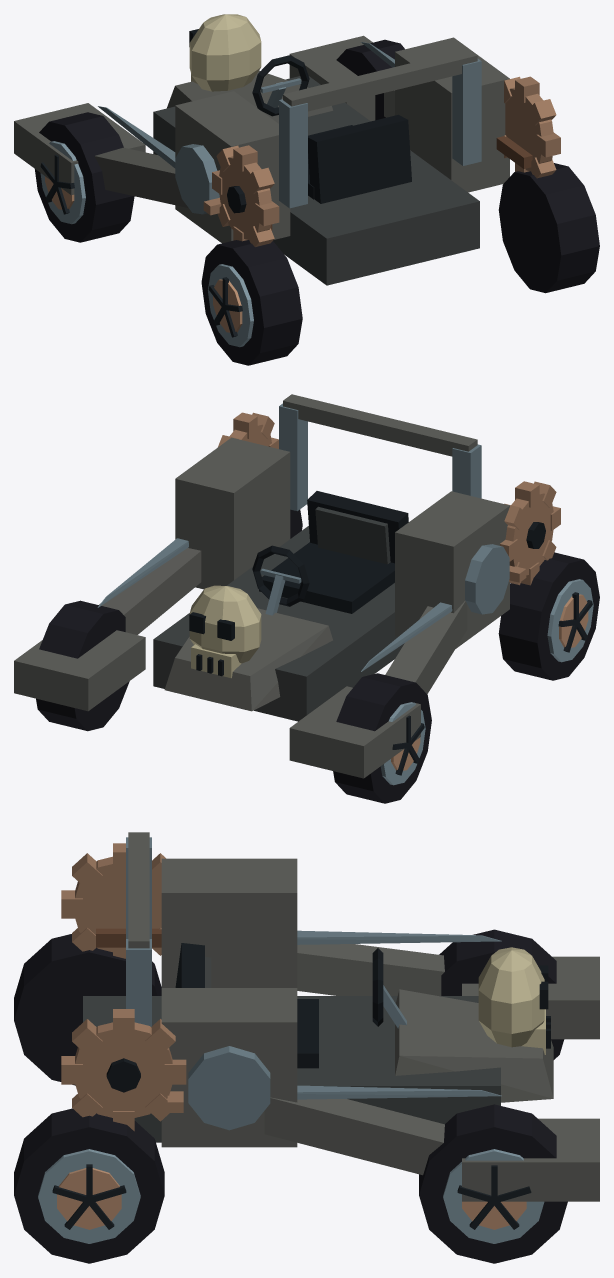
Rendered from kart.glb.
3 renders of one model, top to bottom at view 1: azimuth 30°, elevation 25°; view 2: azimuth 150°, elevation 25°; view 3: azimuth 270°, elevation 25°, orthographic. The views are drawn at different scales.
Parts seen in each view (by area): view 1: identity-mech-mech-articulated-limbs-and-open-harness, wheel-rear-left, wheel-rear-right, identity-mech-motif-gears, identity-mech-driver-cockpit, wheel-front-left, identity-mech-motif-skull, identity-mech-motif-swords, wheel-front-right; view 2: identity-mech-mech-articulated-limbs-and-open-harness, identity-mech-driver-cockpit, wheel-rear-left, wheel-front-left, identity-mech-motif-gears, identity-mech-motif-skull, wheel-front-right, identity-mech-motif-swords; view 3: identity-mech-mech-articulated-limbs-and-open-harness, wheel-rear-right, identity-mech-motif-gears, wheel-front-right, wheel-rear-left, identity-mech-motif-skull, identity-mech-motif-swords, identity-mech-driver-cockpit, wheel-front-left.
Boxes of the visible parts, x1=… form: identity-mech-mech-articulated-limbs-and-open-harness: x1=14, y1=35, x2=509, y2=285; wheel-rear-left: x1=201, y1=240, x2=302, y2=365; wheel-rear-right: x1=498, y1=163, x2=599, y2=293; identity-mech-motif-gears: x1=212, y1=76, x2=560, y2=246; identity-mech-driver-cockpit: x1=252, y1=55, x2=411, y2=203; wheel-front-left: x1=35, y1=112, x2=134, y2=242; identity-mech-motif-skull: x1=189, y1=14, x2=261, y2=91; identity-mech-motif-swords: x1=98, y1=42, x2=532, y2=230; wheel-front-right: x1=336, y1=39, x2=404, y2=120; identity-mech-mech-articulated-limbs-and-open-harness: x1=14, y1=394, x2=509, y2=778; identity-mech-driver-cockpit: x1=252, y1=491, x2=408, y2=615; wheel-rear-left: x1=498, y1=552, x2=599, y2=680; wheel-front-left: x1=333, y1=673, x2=431, y2=803; identity-mech-motif-gears: x1=218, y1=412, x2=560, y2=585; identity-mech-motif-skull: x1=189, y1=585, x2=261, y2=678; wheel-front-right: x1=36, y1=600, x2=129, y2=731; identity-mech-motif-swords: x1=97, y1=538, x2=526, y2=671; identity-mech-mech-articulated-limbs-and-open-harness: x1=83, y1=832, x2=599, y2=1201; wheel-rear-right: x1=14, y1=1108, x2=164, y2=1263; identity-mech-motif-gears: x1=61, y1=843, x2=186, y2=1131; wheel-front-right: x1=419, y1=1104, x2=567, y2=1263; wheel-rear-left: x1=14, y1=934, x2=161, y2=1085; identity-mech-motif-skull: x1=478, y1=947, x2=550, y2=1054; identity-mech-motif-swords: x1=96, y1=928, x2=501, y2=1112; identity-mech-driver-cockpit: x1=175, y1=943, x2=406, y2=1068; wheel-front-left: x1=439, y1=929, x2=564, y2=1059.
Size of the model in its own units: 2.29 by 1.42 by 2.72.
